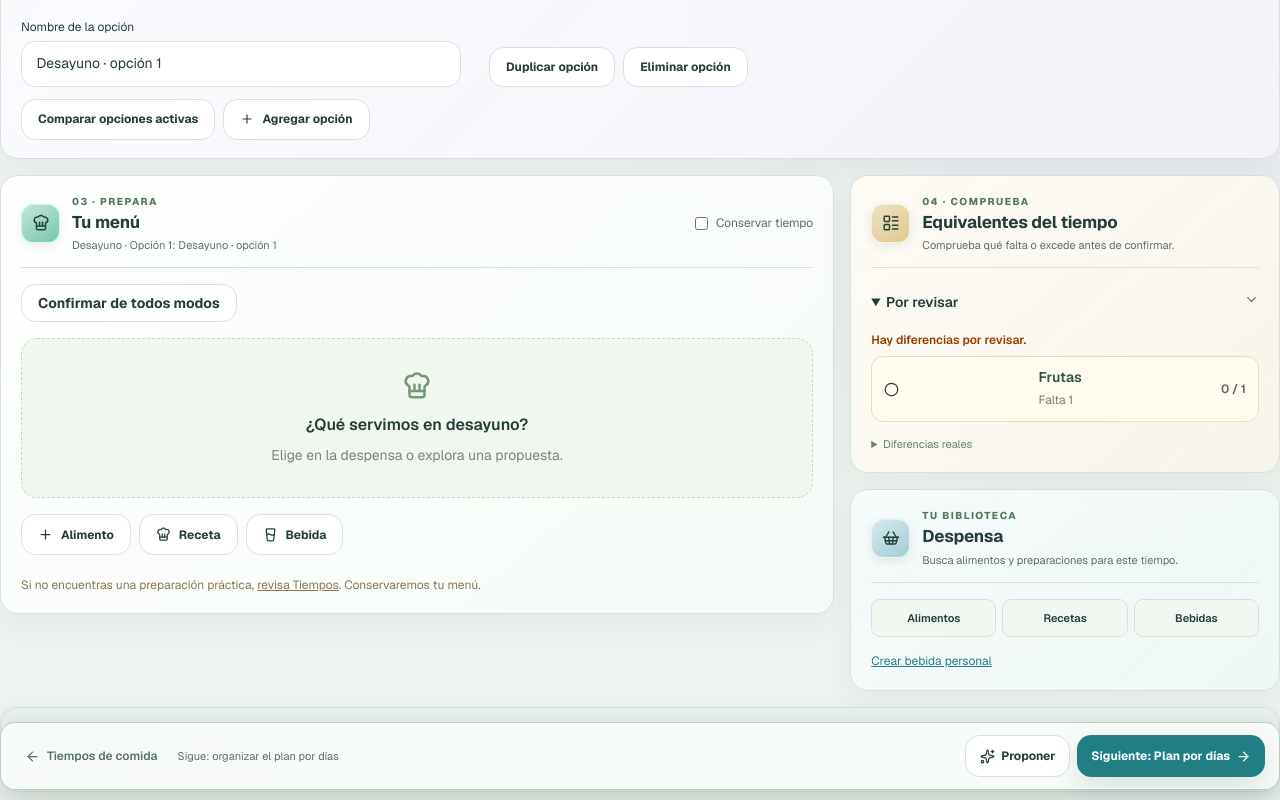
Scenario: DietMenuStep › fills contextual FRUITS with Papaya and preserves its unit
(page scrolled)
Click the text "Falta 1" at (1056, 400), box [1038,392,1073,408]
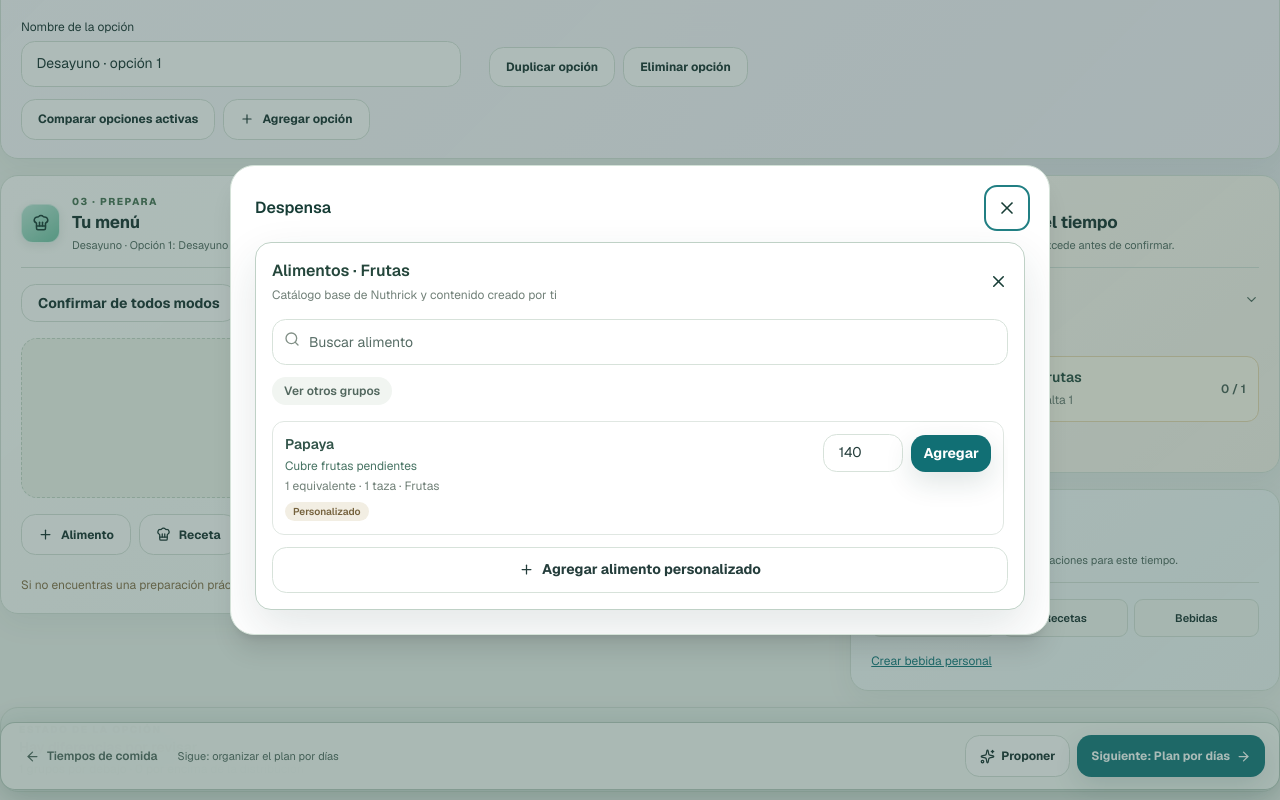
Check: the number field named "Cantidad de Papaya" holds "140", box [823,434,903,472]
Click the button "Agregar" at (951, 453), box [911,435,991,472]
(page scrolled)
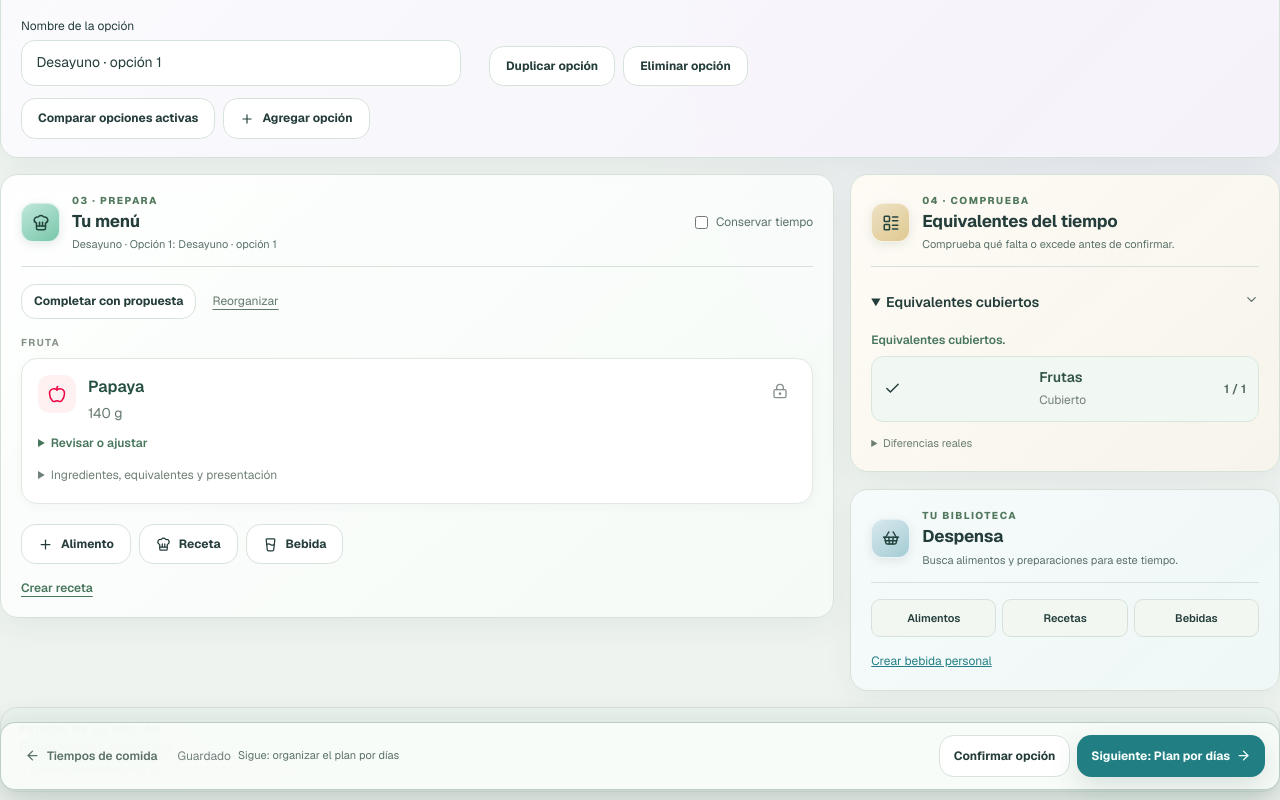
Check: the text "Cubierto" is shown, box [1039,392,1086,408]
Replace the text in the number field named "Cantidad de Papaya" with "70" at (99, 443), box [51,435,148,451]
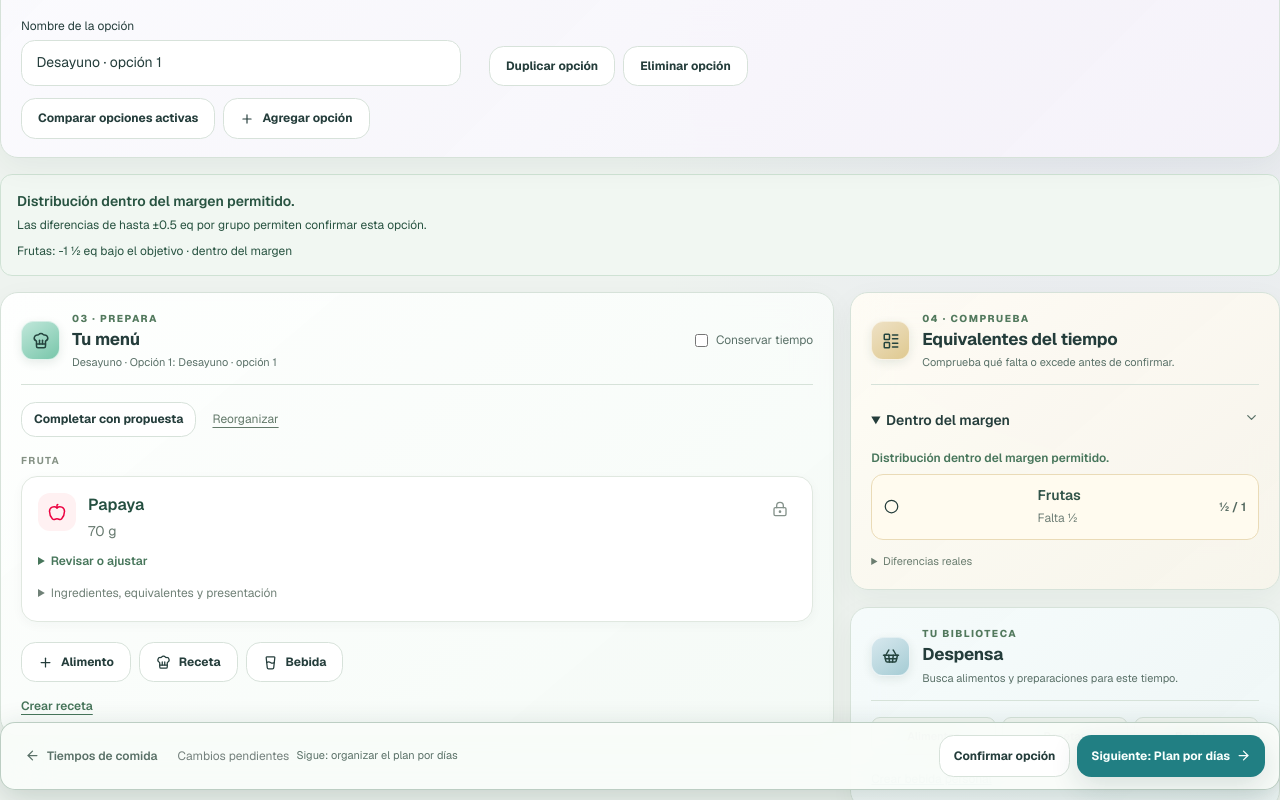
Check: the text "Falta ½" is shown, box [1038,510,1077,526]
